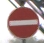No entry: (6, 5, 38, 37)
